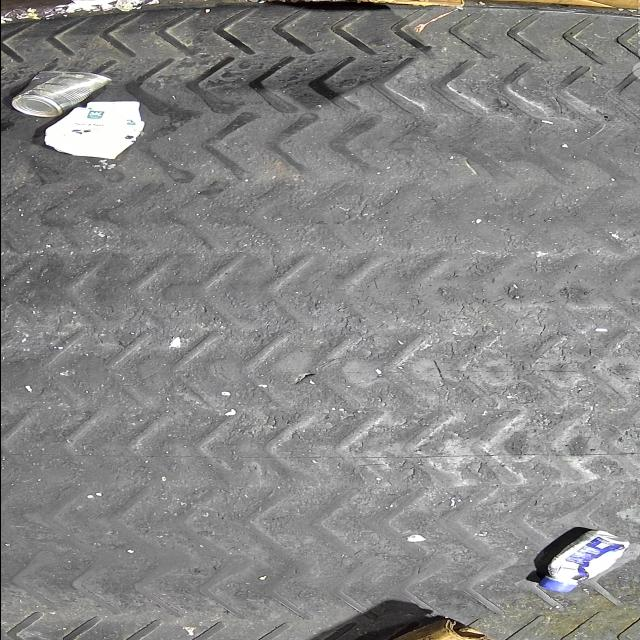can: (10, 70, 111, 118)
